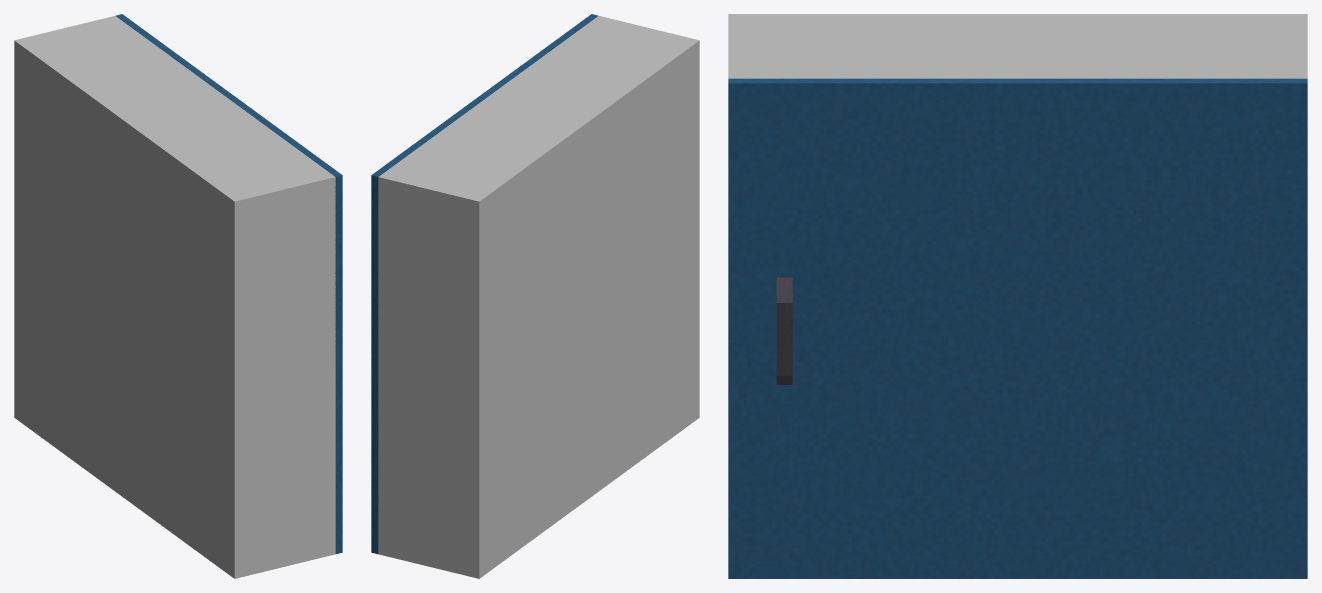
File: ElectricalPanel.fbx
3 renders of one model, left to right at view 1: azimuth 30°, elevation 25°; view 2: azimuth 150°, elevation 25°; view 3: azimuth 270°, elevation 25°, orthographic. The views are drawn at different scales.
Parts seen in each view (by area): view 1: Box, Door; view 2: Box, Door; view 3: Door, Box.
Boxes of the visible parts, left/top/right/bottom form: Box: left=14, top=16, right=335, bottom=578; Door: left=115, top=14, right=342, bottom=553; Box: left=378, top=16, right=699, bottom=578; Door: left=371, top=14, right=598, bottom=553; Door: left=728, top=78, right=1307, bottom=578; Box: left=728, top=14, right=1307, bottom=78.
Size of the model in its own units: 22.79 by 68 by 72.
